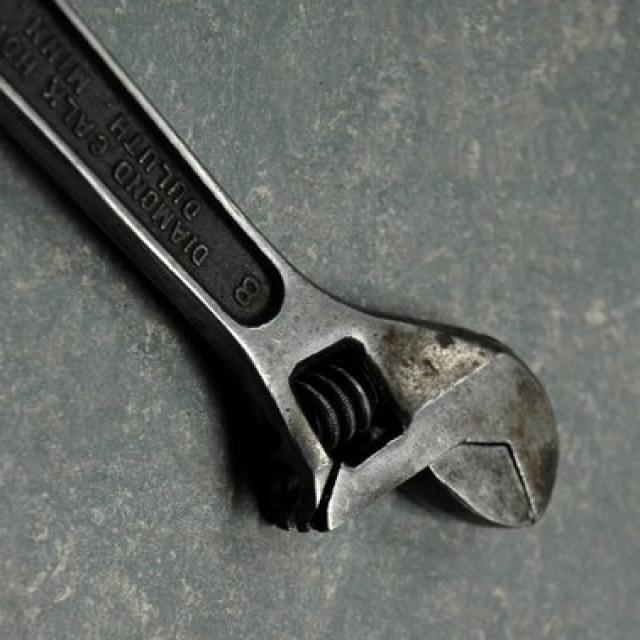wrench: (0, 3, 569, 545)
